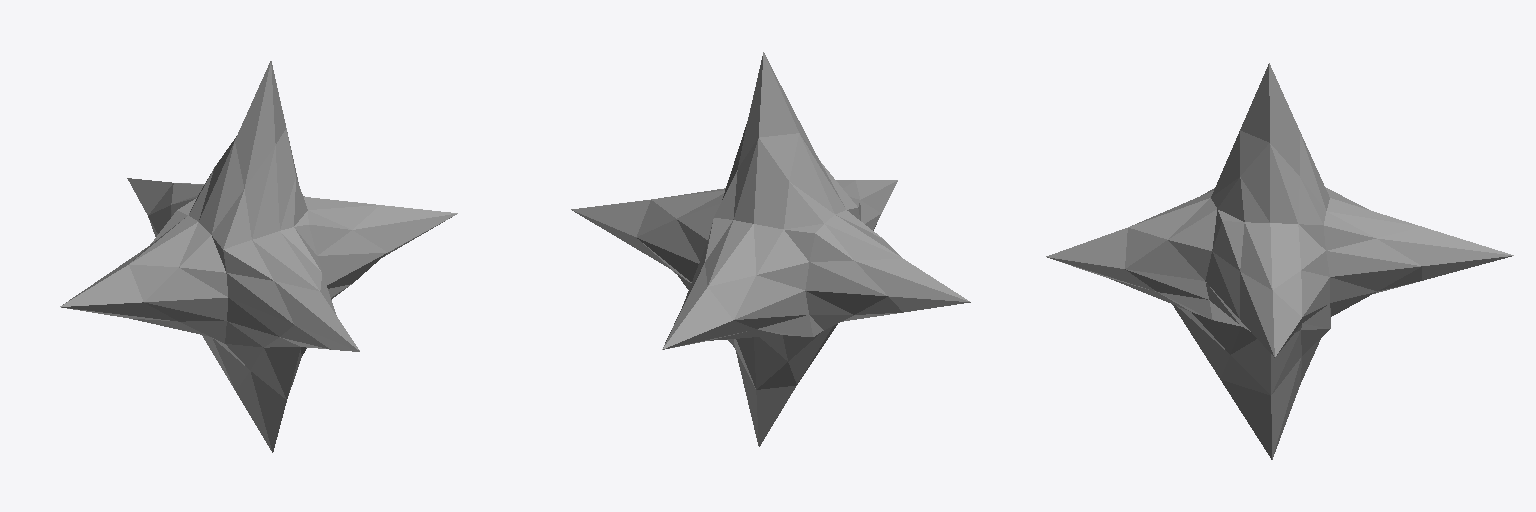
The model's file is jewel.obj.
3 views of the same model, side by side, from view 1: azimuth 30°, elevation 25°; view 2: azimuth 150°, elevation 25°; view 3: azimuth 270°, elevation 25° (orthographic).
Visible parts, largest first — view 1: Cube; view 2: Cube; view 3: Cube.
Part boxes in pixels (x1,y1,x2,y2): Cube: (60,61,457,452); Cube: (571,52,970,446); Cube: (1046,63,1513,459).
Size of the model in its own units: 7.75 by 7.33 by 7.88.